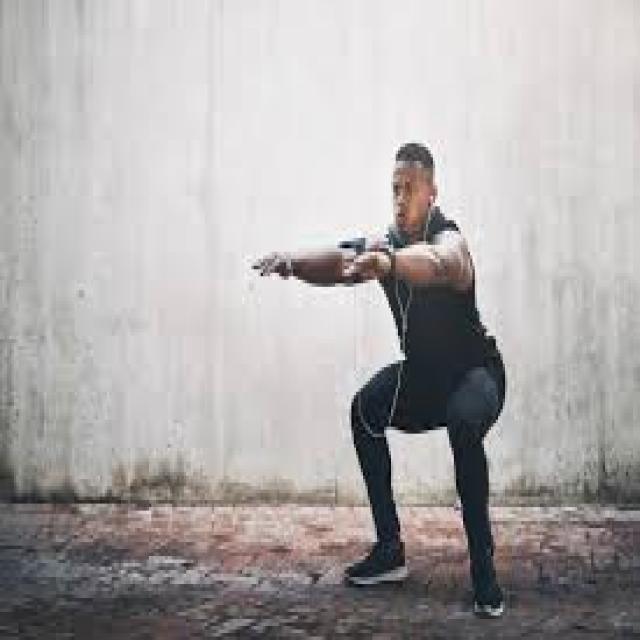squat: (253, 141, 508, 625)
